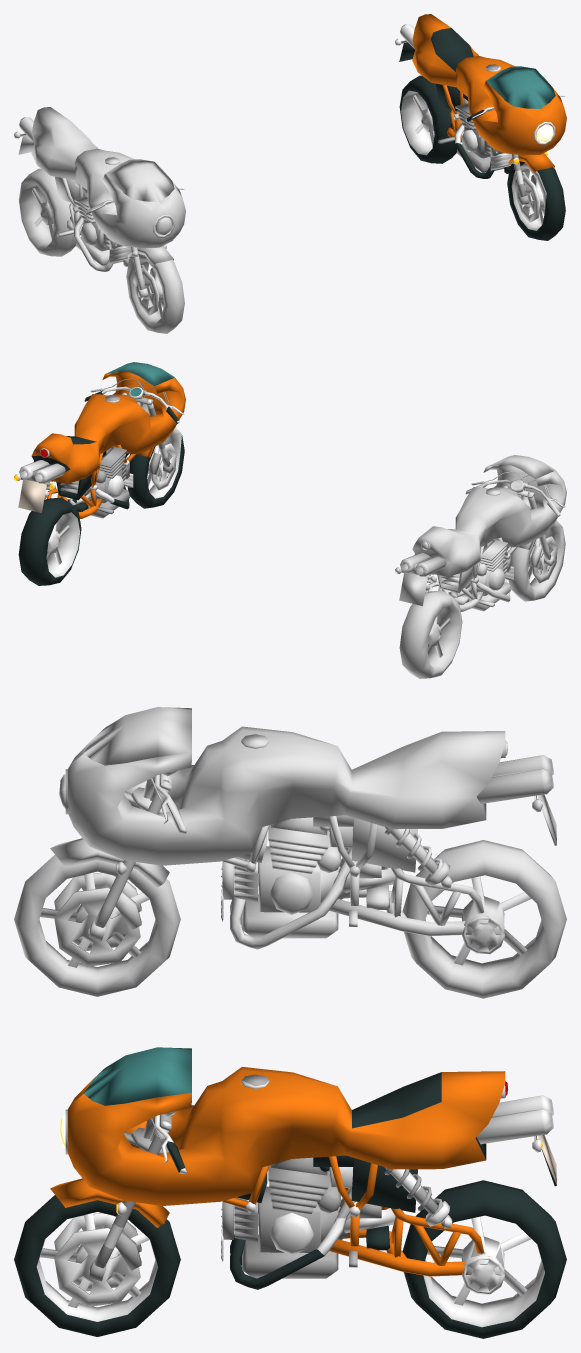
File: sonmotor.fbx
3 views of the same model, one above another, from view 1: azimuth 30°, elevation 25°; view 2: azimuth 150°, elevation 25°; view 3: azimuth 270°, elevation 25° (orthographic). The views are drawn at different scales.
Parts seen in each view (by area): view 1: MotorBirlesik.002, MotorBirlesik.001; view 2: MotorBirlesik.002, MotorBirlesik.001; view 3: MotorBirlesik.001, MotorBirlesik.002.
Part boxes in pixels (x1,y1,x2,y2): MotorBirlesik.002: (14,107,185,333); MotorBirlesik.001: (395,14,566,240); MotorBirlesik.002: (395,455,566,678); MotorBirlesik.001: (14,362,185,585); MotorBirlesik.001: (14,1047,566,1338); MotorBirlesik.002: (14,707,566,998).
Bounding box in the file's own units: 107 × 32.74 × 58.64.
